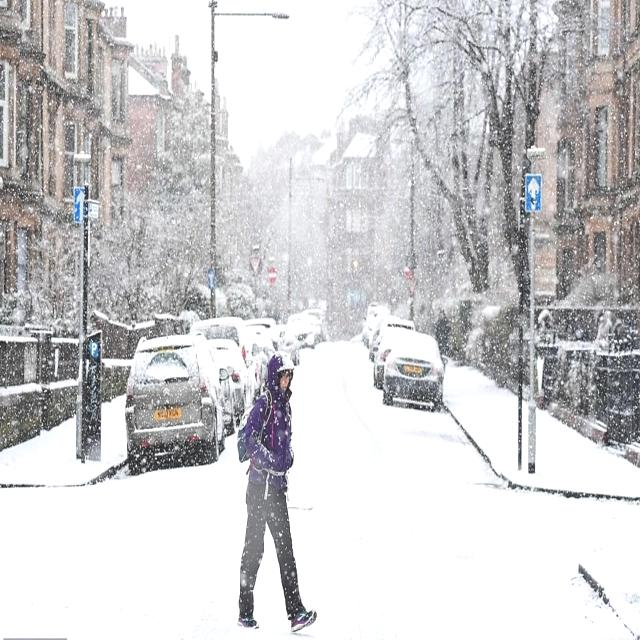Car: (125, 334, 231, 470), (384, 329, 448, 414), (188, 316, 259, 392), (210, 337, 252, 422), (373, 328, 418, 388), (211, 346, 236, 435), (372, 320, 416, 363), (245, 318, 285, 350), (288, 312, 316, 348), (276, 324, 300, 366), (247, 323, 277, 354), (302, 309, 326, 343)
